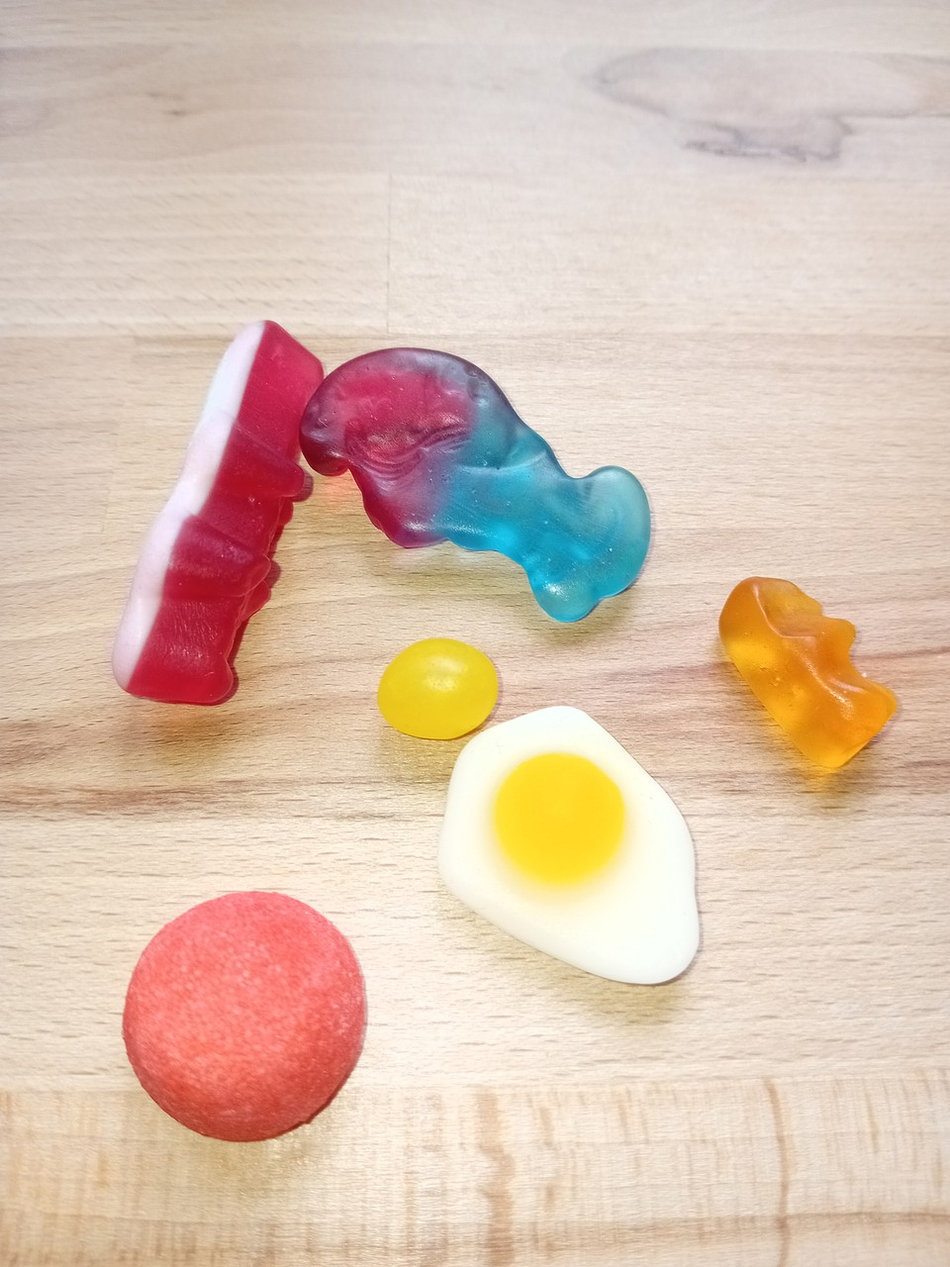crocodile_rouge: (104, 315, 327, 709)
dragibus_jaune: (376, 630, 502, 741)
oeuf_oeuf: (432, 700, 707, 986)
ourson_orangeClair: (711, 569, 905, 777)
schtroumpf_bleu-rouge: (297, 344, 666, 634)
tagada_fraise: (115, 882, 371, 1148)
